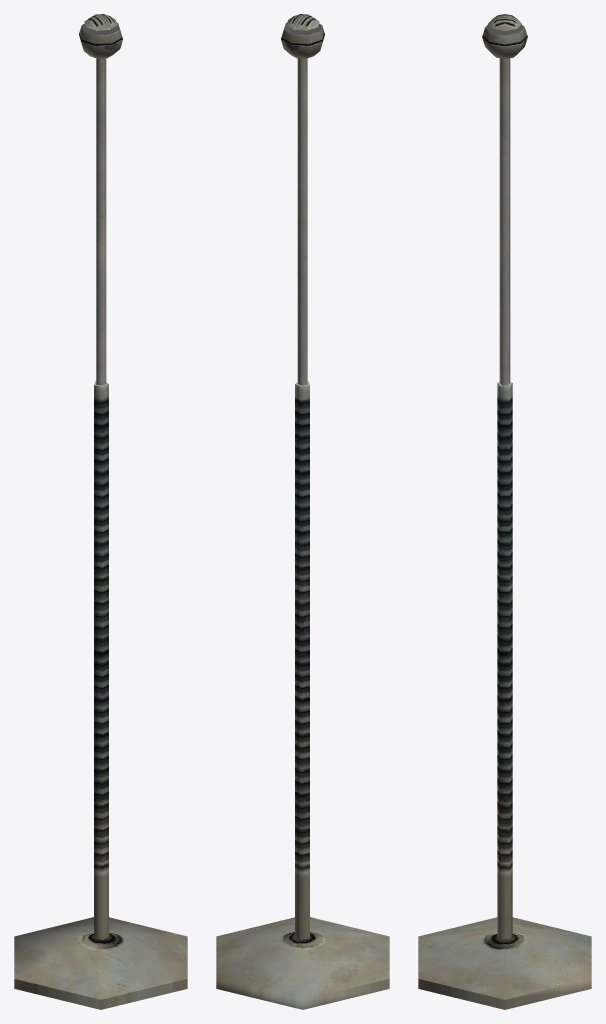
Rendered from eqp_music_microphone_s2_l0.fbx.
3 views of the same model, side by side, from view 1: azimuth 30°, elevation 25°; view 2: azimuth 150°, elevation 25°; view 3: azimuth 270°, elevation 25° (orthographic).
Parts seen in each view (by area): view 1: mesh_node; view 2: mesh_node; view 3: mesh_node.
Part boxes in pixels (left/top/right/bottom): mesh_node: left=14, top=14, right=187, bottom=1009; mesh_node: left=216, top=14, right=389, bottom=1009; mesh_node: left=418, top=14, right=591, bottom=1009.
Size of the model in its own units: 0.2872 by 1.51 by 0.2488.
Materials: 1 (1 with a texture image).
